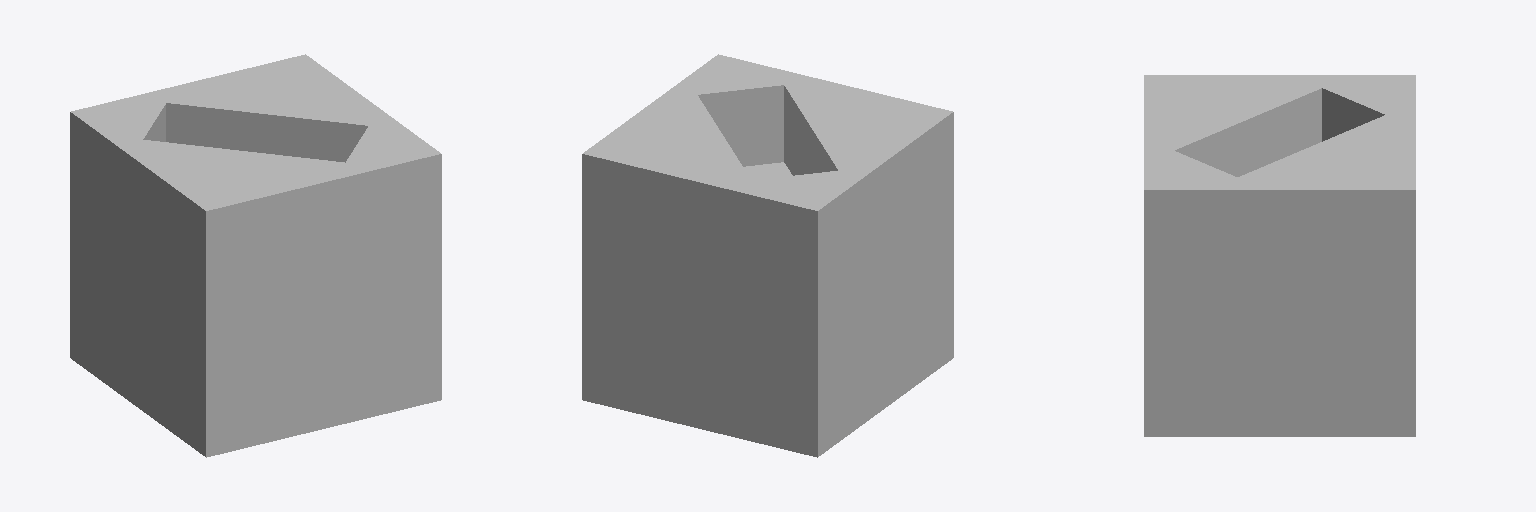
The model's file is Line_cube_bottle_rotated45_preprocessed.obj.
The picture shows the model from 3 angles: view 1: azimuth 30°, elevation 25°; view 2: azimuth 150°, elevation 25°; view 3: azimuth 270°, elevation 25°; orthographic projection.
Bounding box in the file's own units: 0.08 × 0.08 × 0.08.